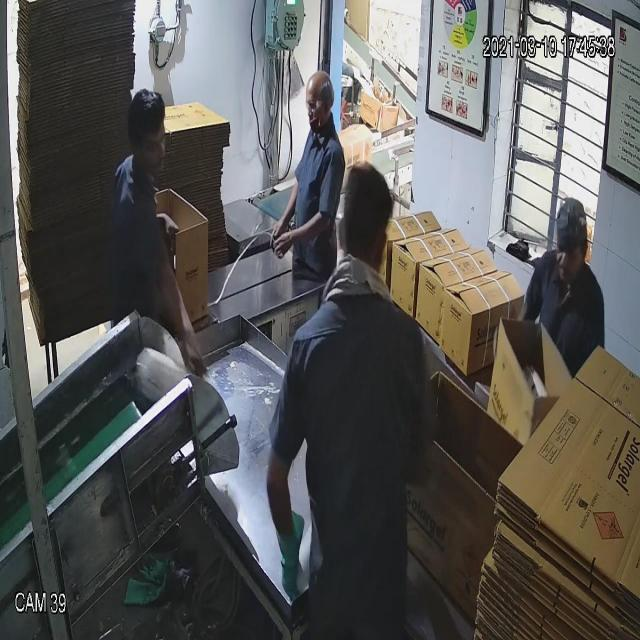No_Gloves: (48, 80, 303, 539)
